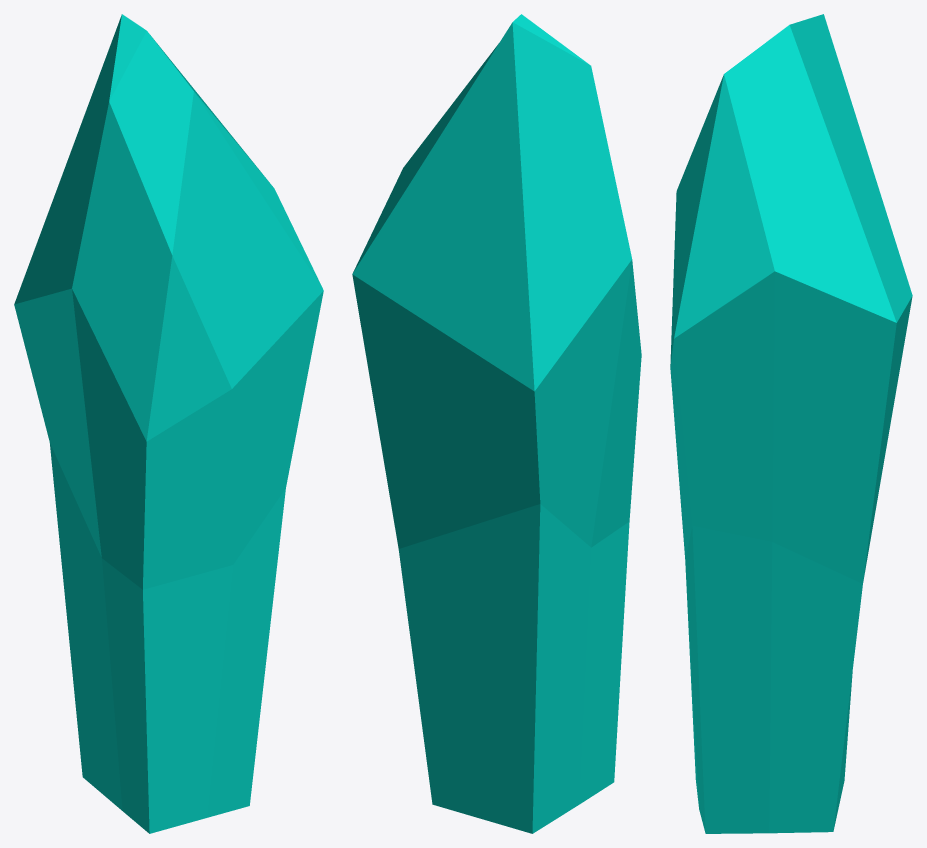
The model's file is Gem01.fbx.
3 renders of one model, left to right at view 1: azimuth 30°, elevation 25°; view 2: azimuth 150°, elevation 25°; view 3: azimuth 270°, elevation 25°, orthographic. The views are drawn at different scales.
Parts seen in each view (by area): view 1: GemStone01; view 2: GemStone01; view 3: GemStone01.
Boxes of the visible parts, x1,y1,x2,y2 form: GemStone01: [14, 14, 323, 833]; GemStone01: [352, 14, 641, 833]; GemStone01: [670, 14, 912, 833].
Bounding box in the file's own units: 2.15 × 7.47 × 2.09.
